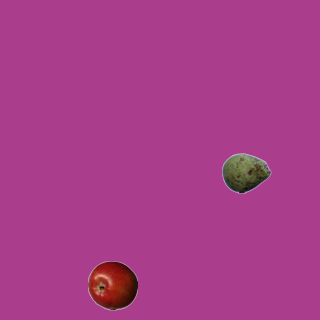Apple Braeburn: (87, 260, 137, 310)
Pear Stone: (221, 148, 271, 198)
